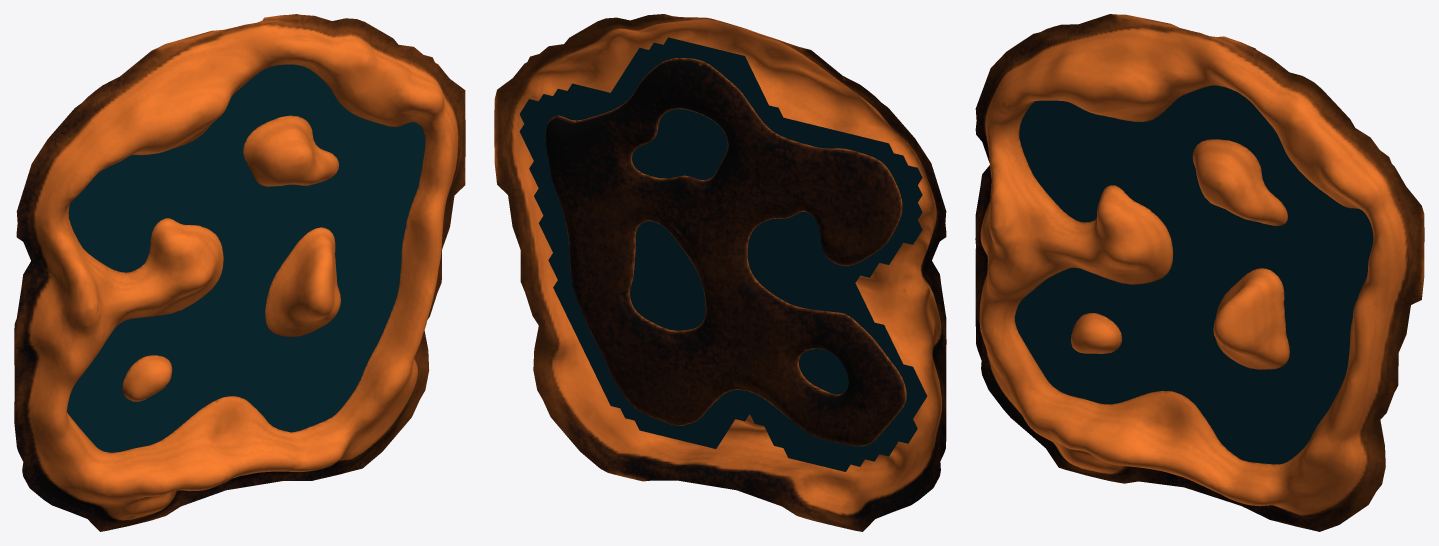
The model's file is mountains_road.glb.
3 renders of one model, left to right at view 1: azimuth 30°, elevation 25°; view 2: azimuth 150°, elevation 25°; view 3: azimuth 330°, elevation 25°, orthographic.
Visible parts, largest first — view 1: terrain, water; view 2: terrain, water; view 3: terrain, water.
Part boxes in pixels (x1,y1,x2,y2): terrain: (14, 14, 465, 531); water: (67, 64, 425, 452); terrain: (494, 14, 946, 531); water: (519, 37, 927, 471); terrain: (975, 14, 1424, 531); water: (1015, 85, 1373, 464).
Size of what is drawn, in the model's own units: 82.2 by 82.74 by 10.18.
Materials: 2 (1 with a texture image).
